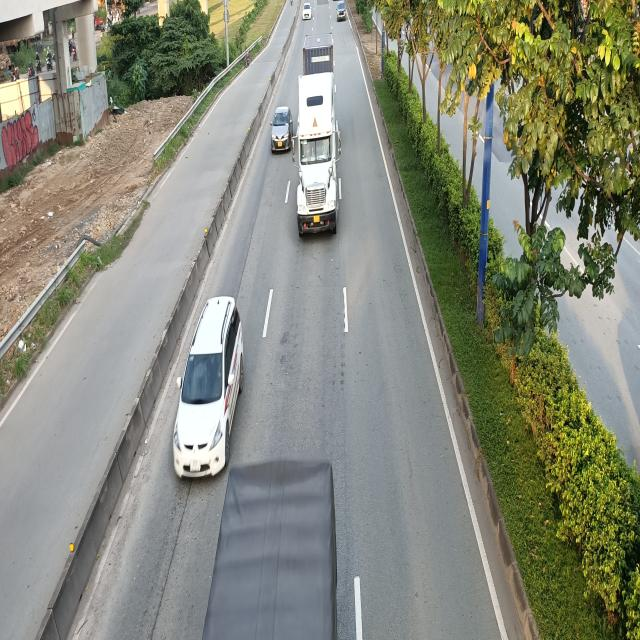car: (176, 294, 246, 475), (271, 105, 294, 153)
container: (296, 33, 344, 234)
